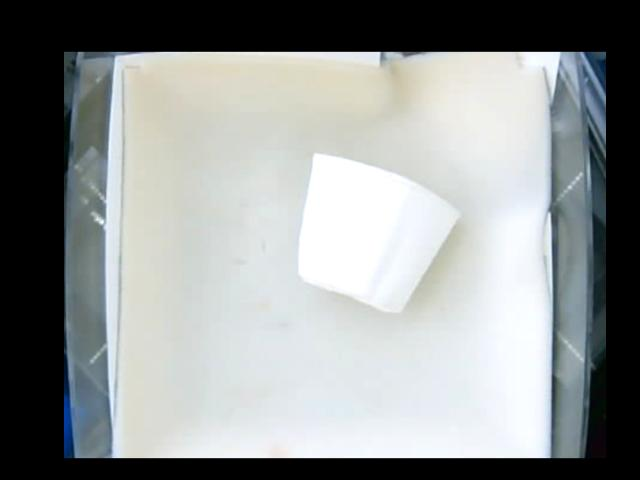Cup: (296, 154, 457, 315)
